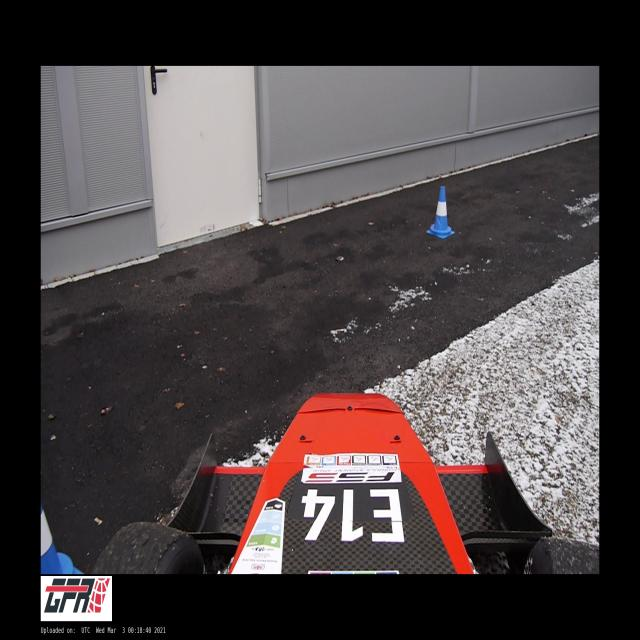blue_cone: (41, 505, 85, 574), (426, 185, 454, 239)
